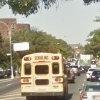Bus: (19, 52, 67, 100)
